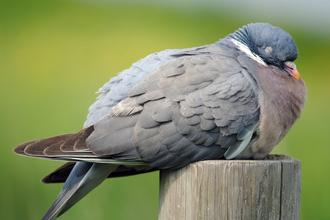Flying Rat: (36, 23, 311, 194)
